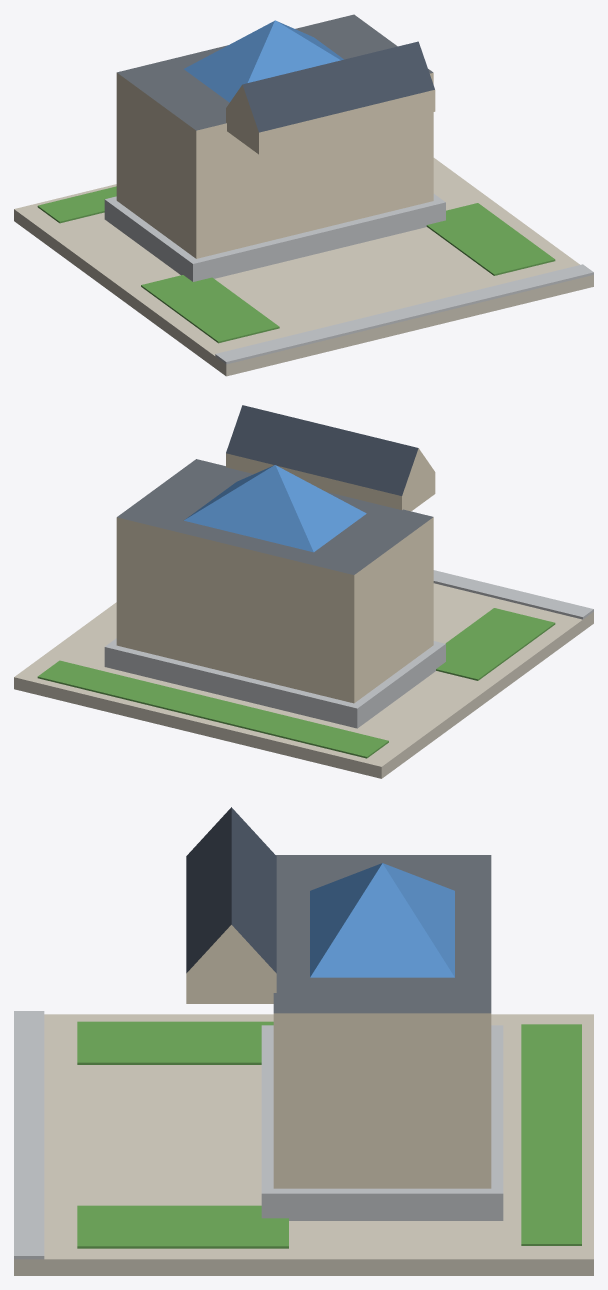
3 renders of one model, top to bottom at view 1: azimuth 30°, elevation 25°; view 2: azimuth 150°, elevation 25°; view 3: azimuth 270°, elevation 25°, orthographic. The views are drawn at different scales.
Visible parts, largest first — view 1: b25_v2_lod2; view 2: b25_v2_lod2; view 3: b25_v2_lod2.
Boxes of the visible parts, x1,y1,x2,y2 form: b25_v2_lod2: [14, 14, 593, 376]; b25_v2_lod2: [14, 405, 593, 778]; b25_v2_lod2: [14, 807, 593, 1275].
Size of the model in its own units: 0.96 by 0.53 by 0.96.
